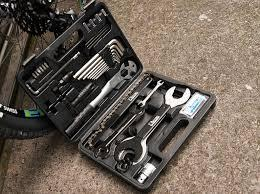wrench: (112, 83, 190, 164), (92, 103, 144, 159), (71, 36, 124, 78), (135, 77, 164, 107)
